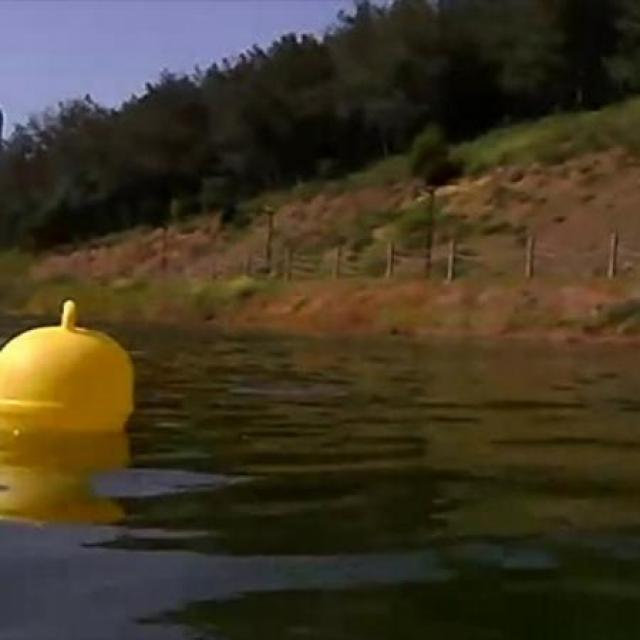buoy: (0, 297, 138, 441)
